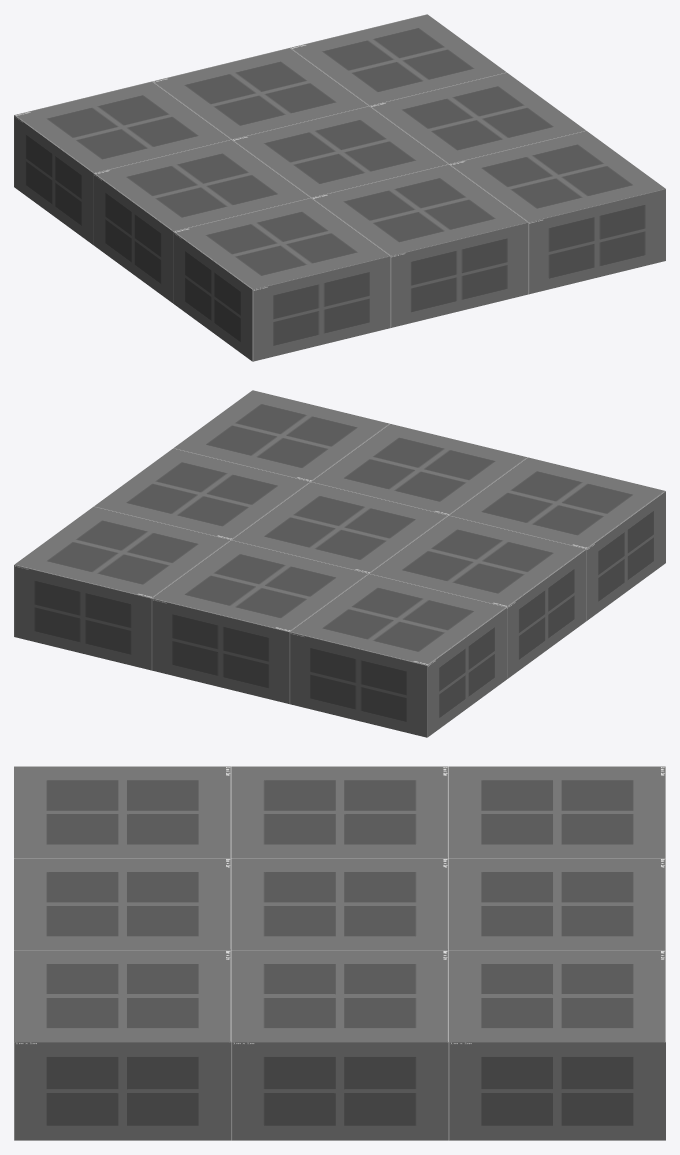
Rendered from 3x3_Basic_Tile.FBX.
3 renders of one model, top to bottom at view 1: azimuth 30°, elevation 25°; view 2: azimuth 150°, elevation 25°; view 3: azimuth 270°, elevation 25°, orthographic. The views are drawn at different scales.
Visible parts, largest first — view 1: Box003; view 2: Box003; view 3: Box003.
Part boxes in pixels (x1,y1,x2,y2): Box003: [14, 14, 665, 361]; Box003: [14, 390, 665, 737]; Box003: [14, 766, 665, 1140].
Bounding box in the file's own units: 300 × 50 × 300.
